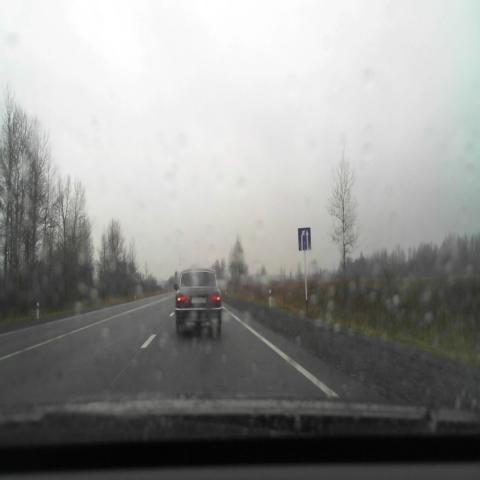5_15_5: (298, 226, 311, 250)
